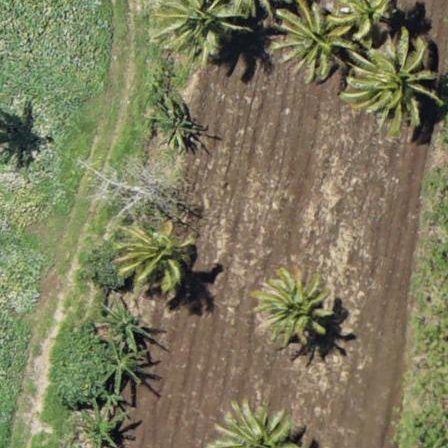palm_tree: (254, 267, 340, 352), (353, 36, 440, 119), (114, 213, 195, 300), (287, 8, 346, 72), (171, 1, 237, 46), (341, 1, 394, 33)
